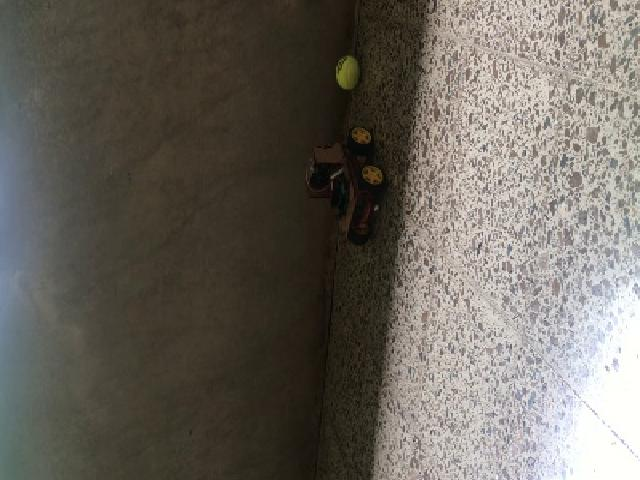Ball: (334, 56, 357, 90)
Robot: (302, 126, 386, 246)
